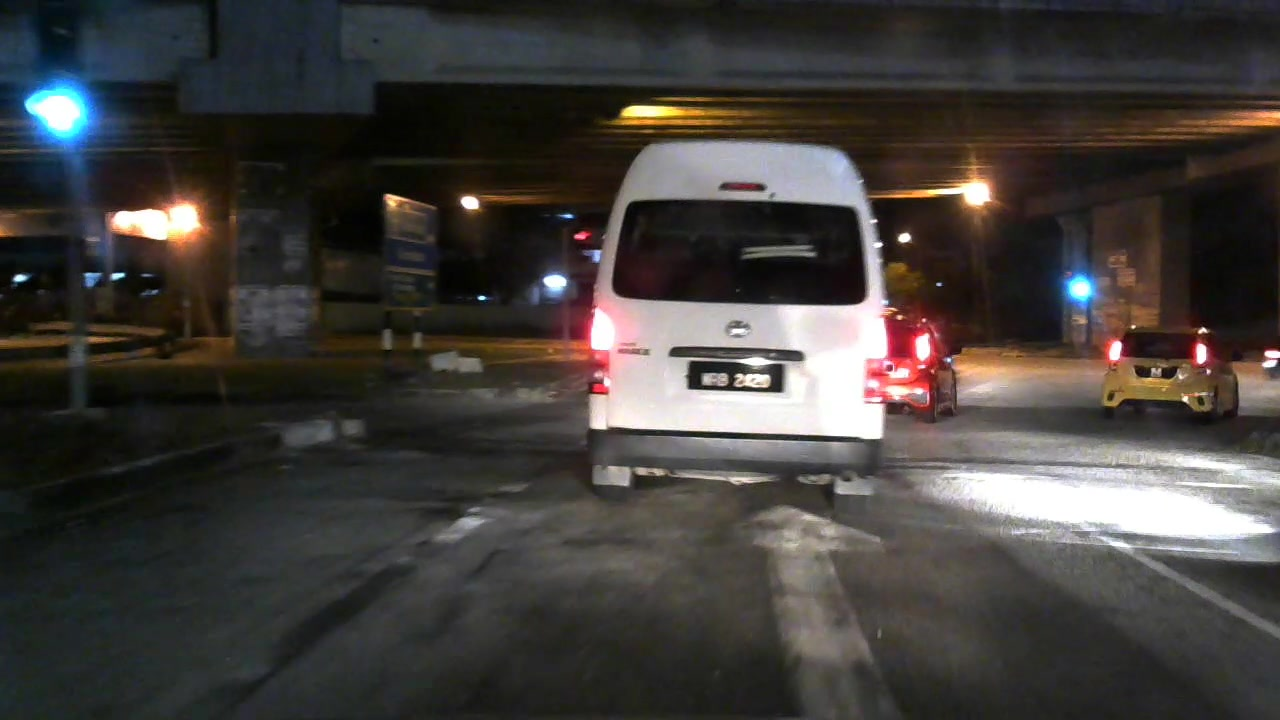Car: (560, 134, 895, 528), (1086, 311, 1240, 429), (872, 307, 990, 421)
